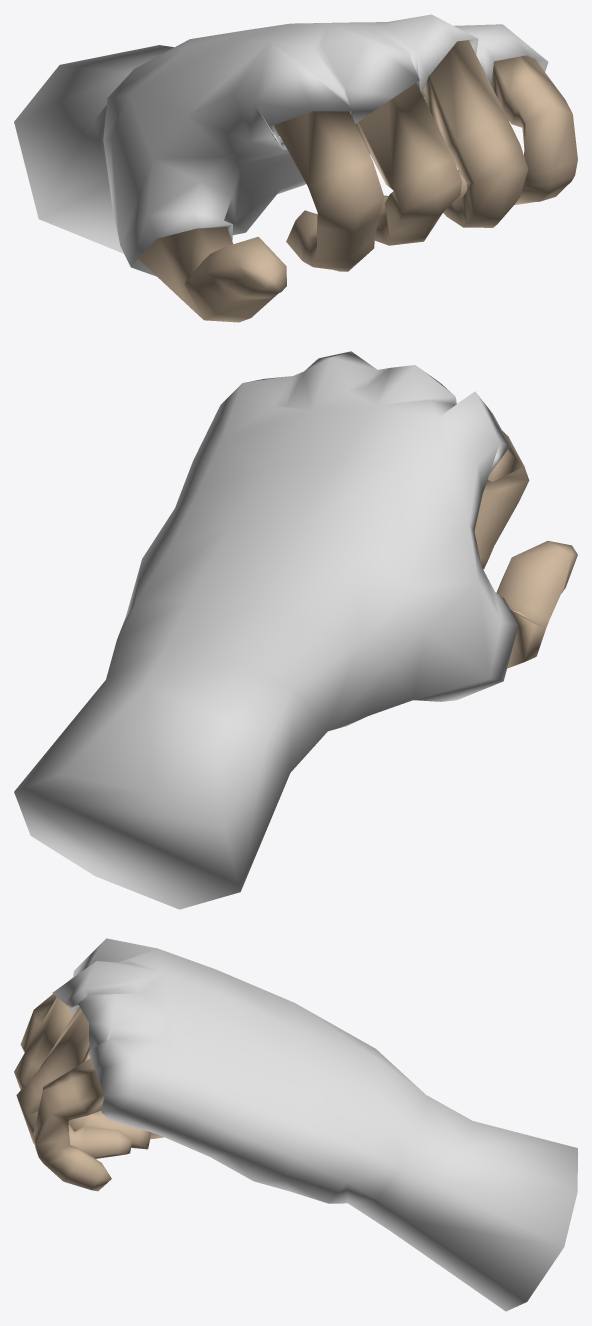
Rendered from hand_gloved_rigged_left.fbx.
3 renders of one model, top to bottom at view 1: azimuth 30°, elevation 25°; view 2: azimuth 150°, elevation 25°; view 3: azimuth 270°, elevation 25°, orthographic. The views are drawn at different scales.
Visible parts, largest first — view 1: mesh; view 2: mesh; view 3: mesh.
Boxes of the visible parts, x1=… form: mesh: x1=14, y1=14, x2=577, y2=322; mesh: x1=14, y1=351, x2=577, y2=909; mesh: x1=14, y1=938, x2=577, y2=1311.
Bounding box in the file's own units: 570 × 615 × 959.
